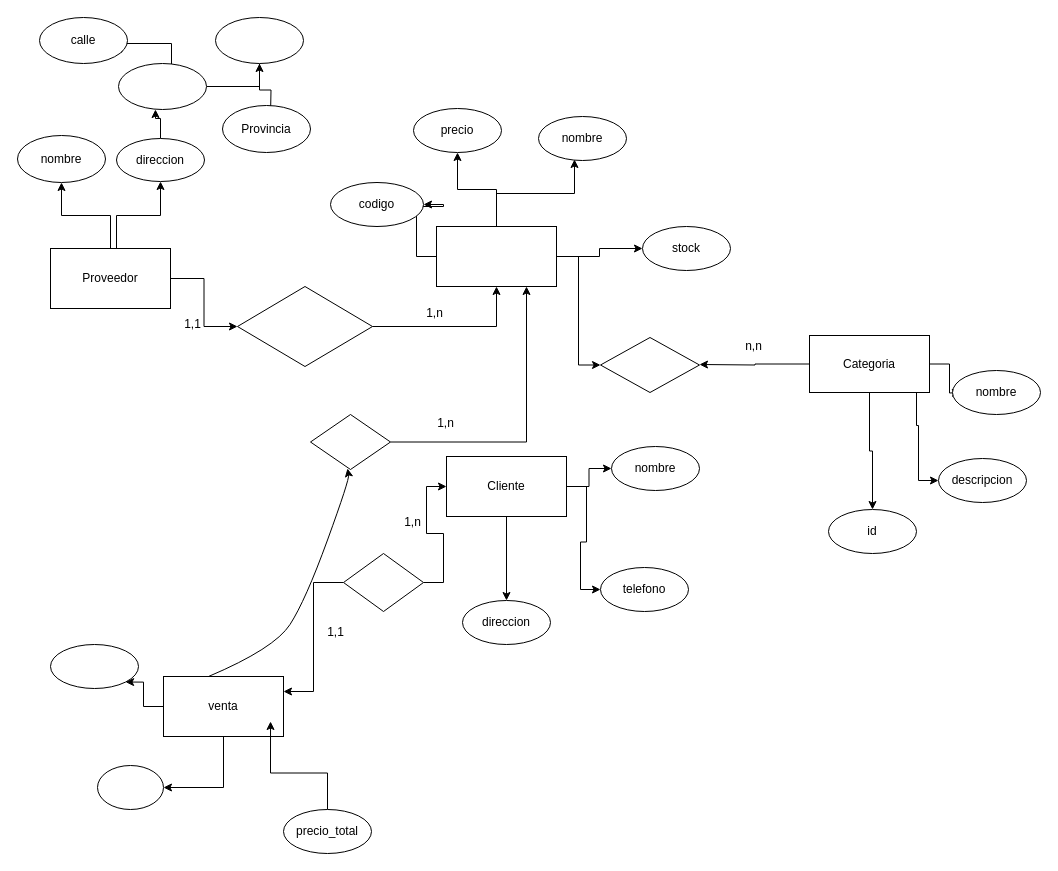
This 1058x871 diagram has some shape labels left out. The shapes that lost their labels are listed below. From the top down, each one's box as (x1, y1, x2, y2) in pixels, then its label:
(214, 16, 304, 64): ciudad
(118, 62, 206, 110): numero
(436, 226, 556, 286): Producto
(236, 286, 372, 366): abastece
(600, 336, 700, 392): Pertenece
(310, 414, 390, 470): posee
(342, 552, 424, 612): Compra
(50, 644, 138, 688): monto_total
(96, 764, 164, 810): cantidad
